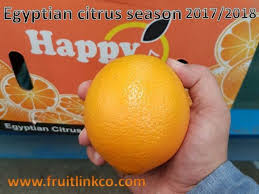orange: (81, 52, 194, 177)
